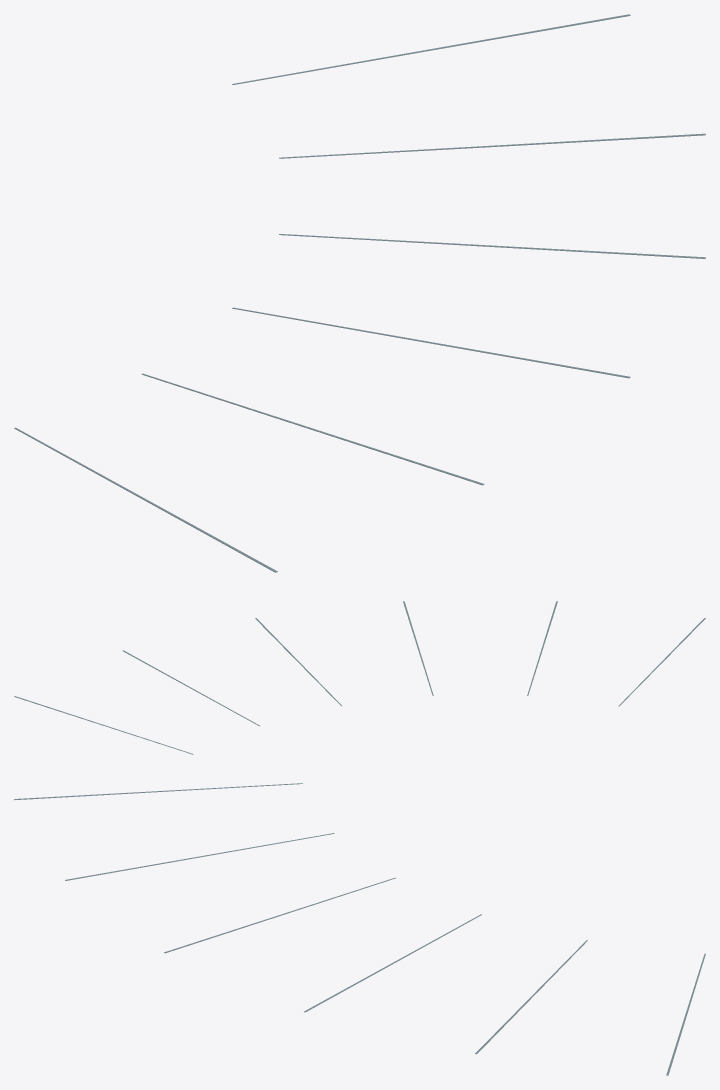
Rendered from Transit_Walk_W4_Curve90_R8_MarkPaverJoints.glb.
3 views of the same model, one above another, from view 1: azimuth 30°, elevation 25°; view 2: azimuth 150°, elevation 25°; view 3: azimuth 270°, elevation 25° (orthographic). The views are drawn at different scales.
Parts seen in each view (by area): view 1: Transit_Walk_W4_Curve90_R8_MarkPaverJoints; view 2: Transit_Walk_W4_Curve90_R8_MarkPaverJoints; view 3: Transit_Walk_W4_Curve90_R8_MarkPaverJoints.
Boxes of the visible parts, x1,y1,x2,y2 form: Transit_Walk_W4_Curve90_R8_MarkPaverJoints: [14, 14, 705, 572]; Transit_Walk_W4_Curve90_R8_MarkPaverJoints: [14, 601, 705, 754]; Transit_Walk_W4_Curve90_R8_MarkPaverJoints: [14, 783, 705, 1075].
Size of the model in its own units: 9.03 by 0.003 by 9.03.
